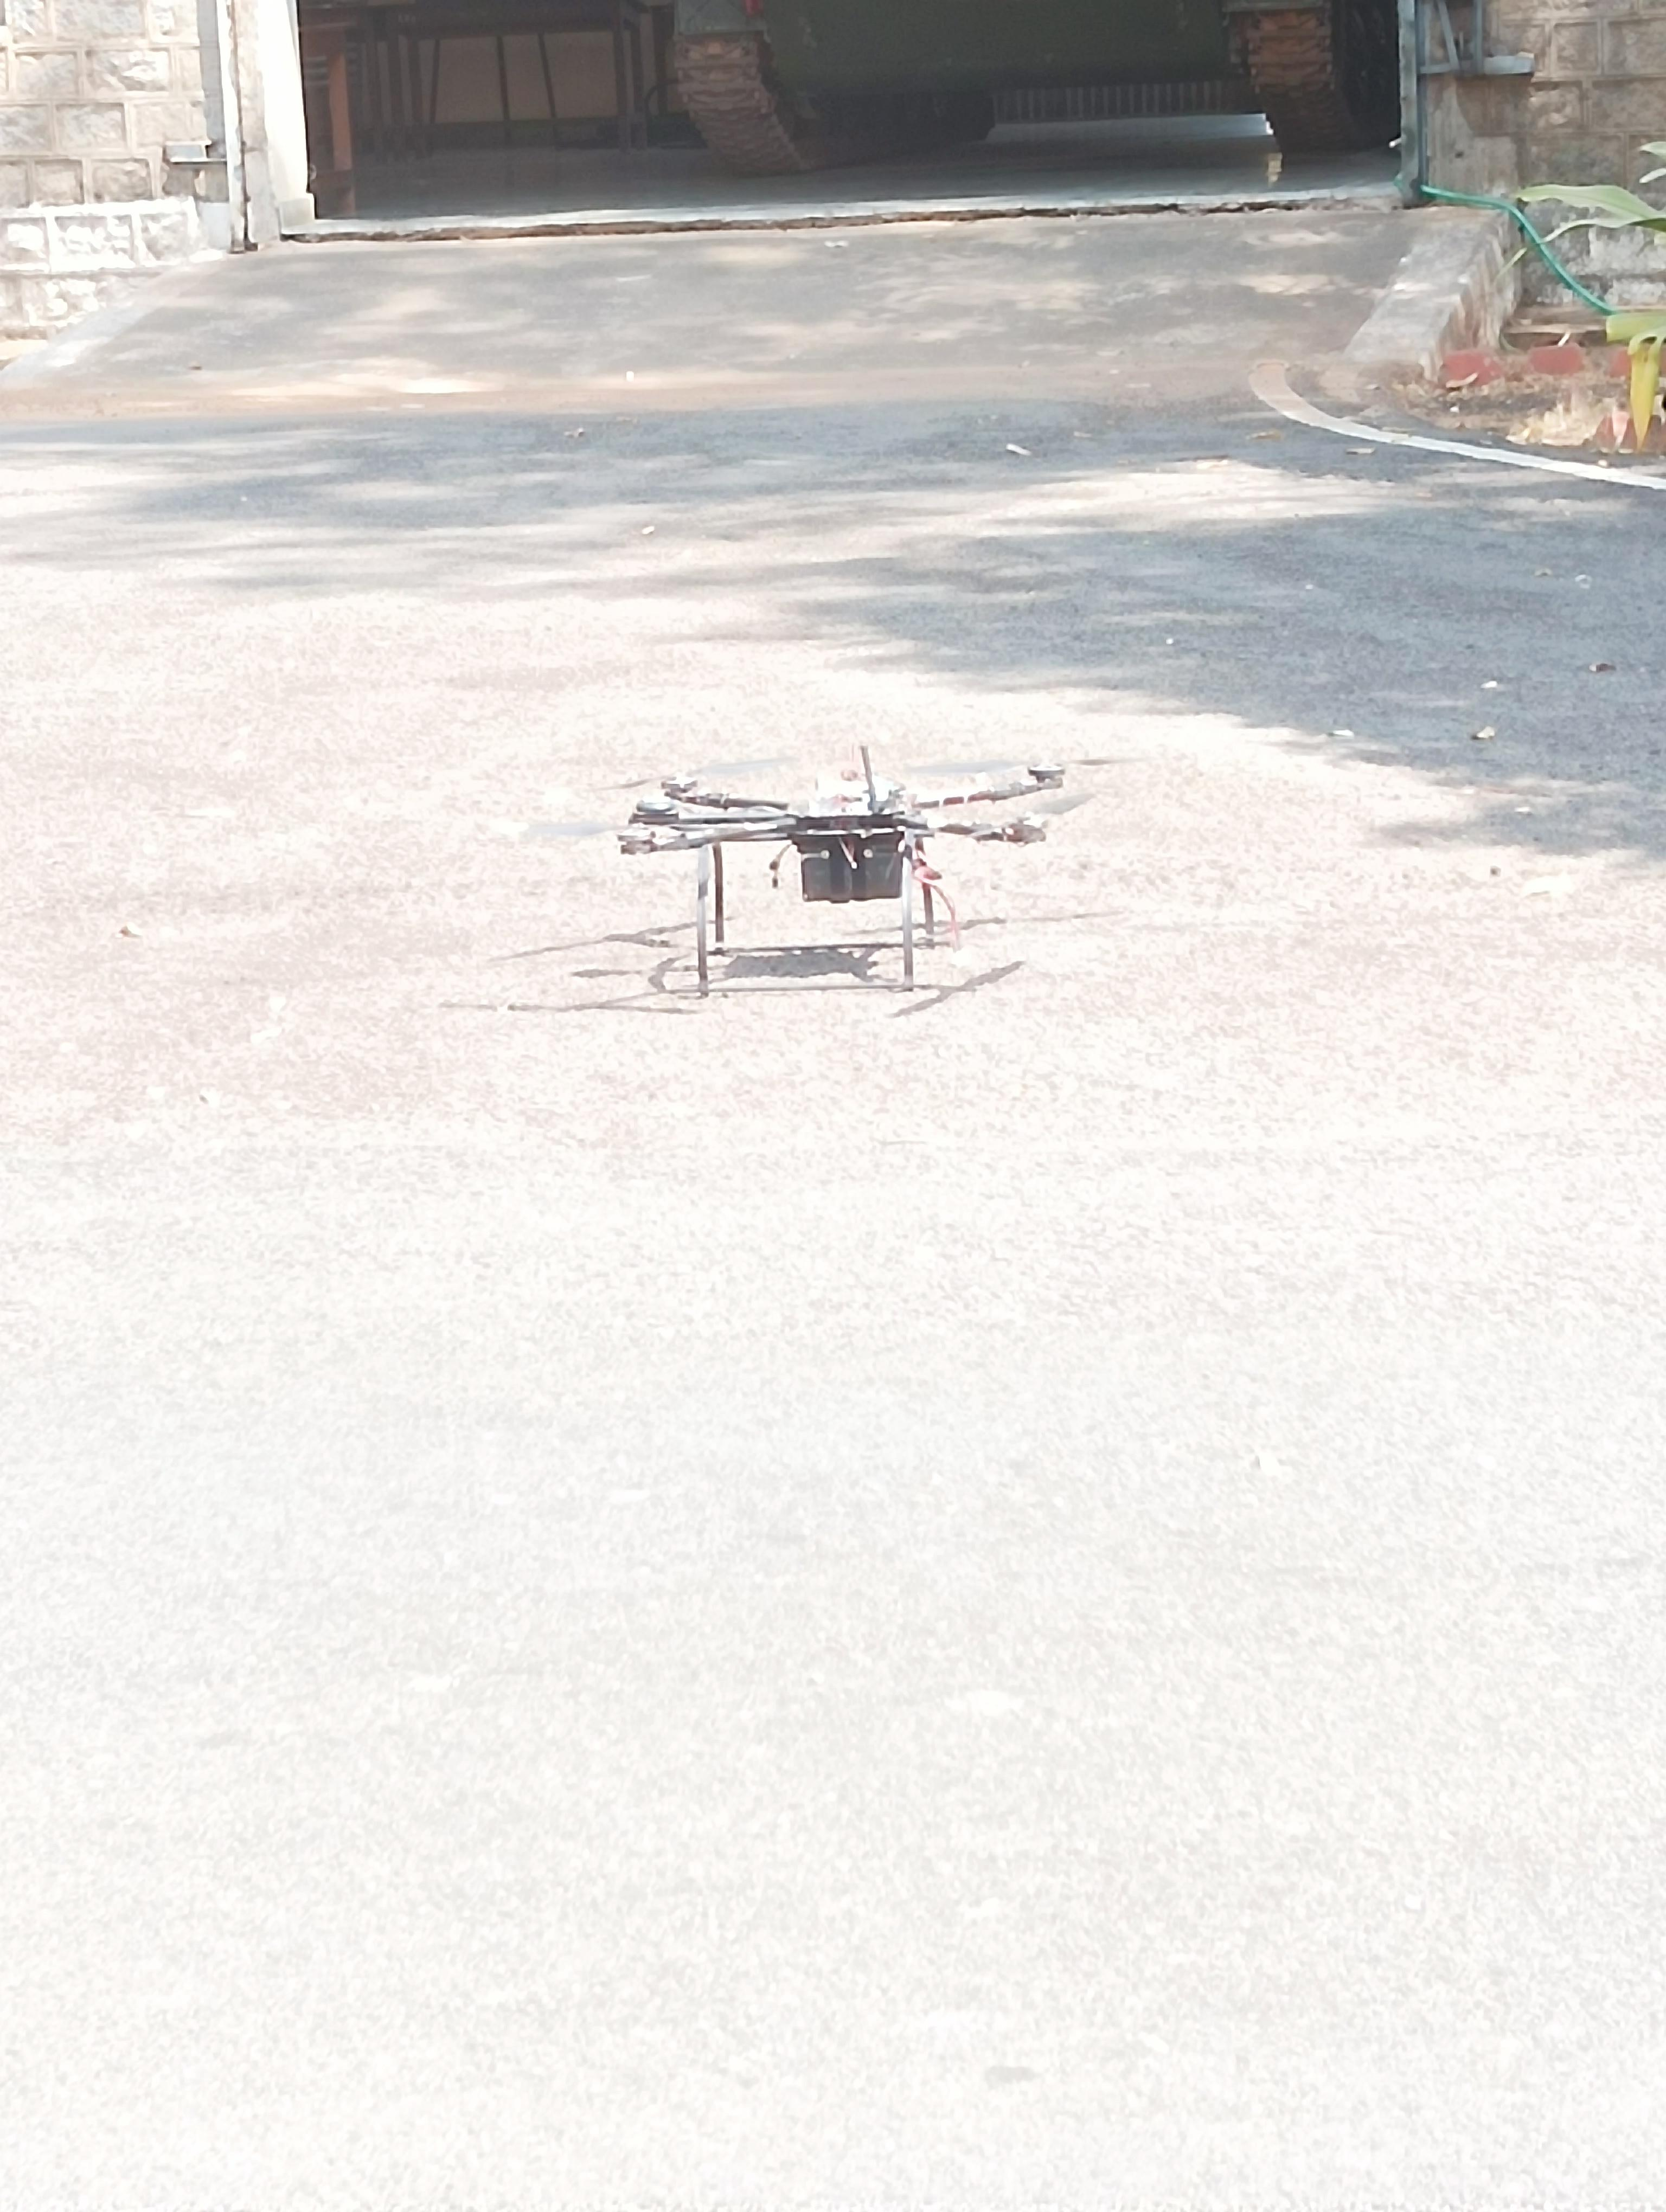drone: (565, 733, 1106, 1023)
